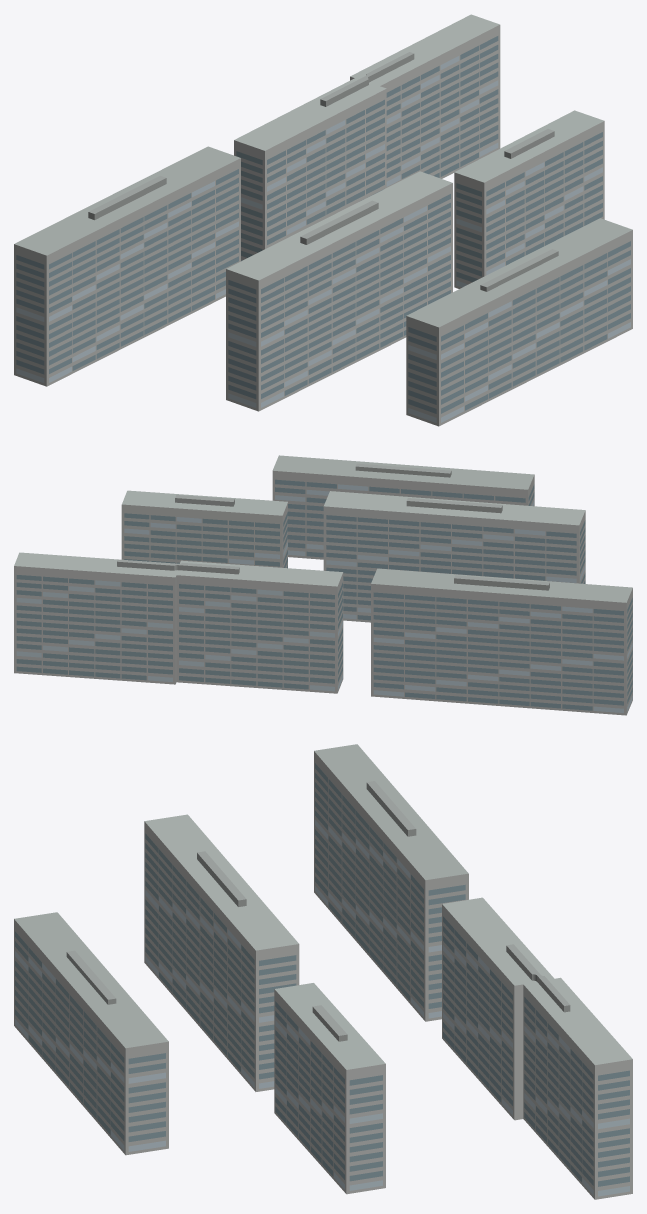
File: apt-a13993502.glb
3 renders of one model, top to bottom at view 1: azimuth 30°, elevation 25°; view 2: azimuth 150°, elevation 25°; view 3: azimuth 270°, elevation 25°, orthographic. The views are drawn at different scales.
Parts seen in each view (by area): view 1: apt-a13993502; view 2: apt-a13993502; view 3: apt-a13993502.
Boxes of the visible parts, box(x1,y1,x2,y2) form: apt-a13993502: box(14, 14, 632, 426); apt-a13993502: box(14, 455, 632, 715); apt-a13993502: box(14, 744, 632, 1199).
Size of the model in its own units: 186 by 41 by 155.
